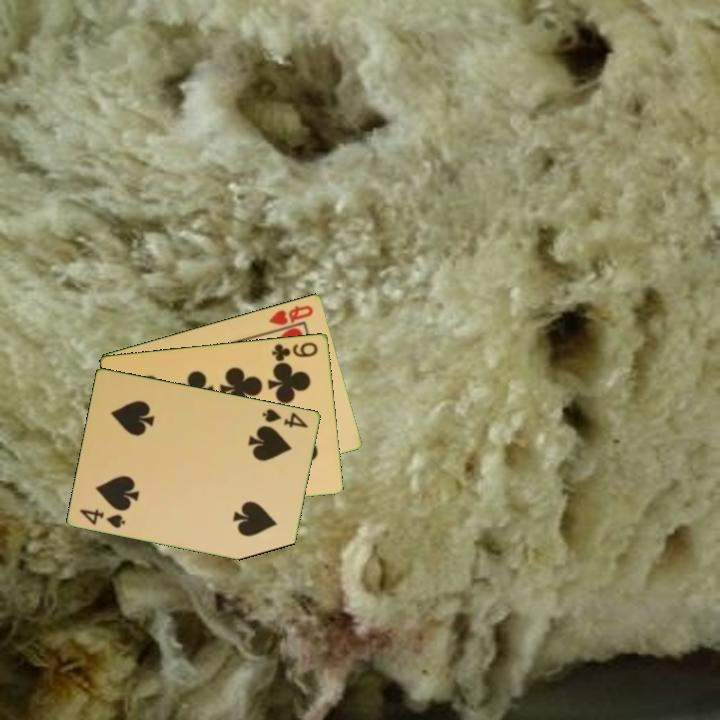4s: (259, 405, 311, 431), (77, 505, 129, 531)
9c: (268, 338, 321, 363)
Qh: (266, 301, 316, 328)
